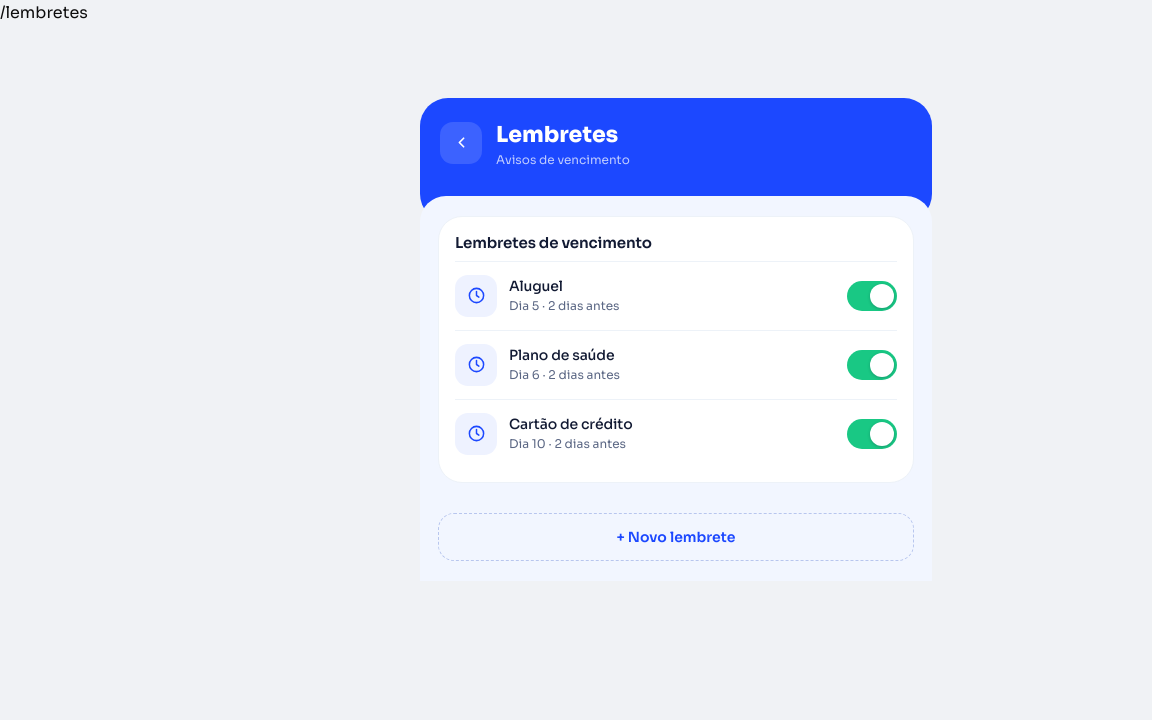
Test: Lembretes › Esc fecha a janela de novo lembrete e a de antecedência, sem criar nem mudar nada
Click the button "+ Novo lembrete". click: (676, 537)
box: x1=438 y1=513 x2=914 y2=561
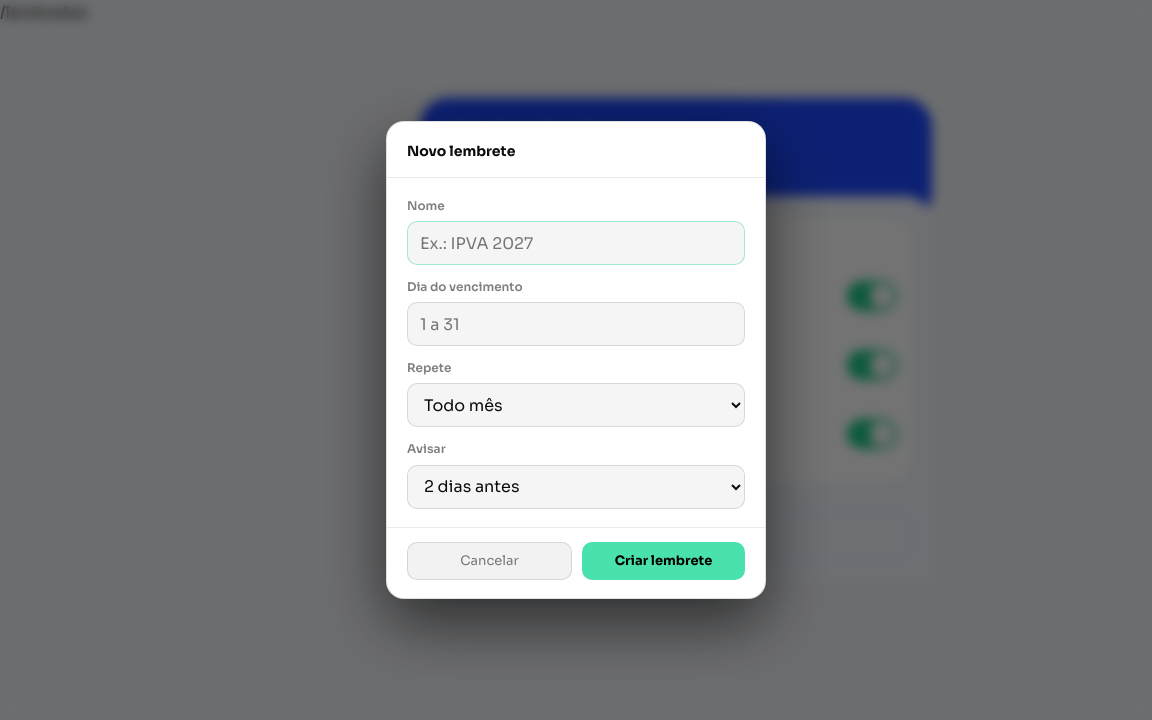
Expected: the dialog "Novo lembrete" is shown, x1=386 y1=121 x2=766 y2=598
Press Escape
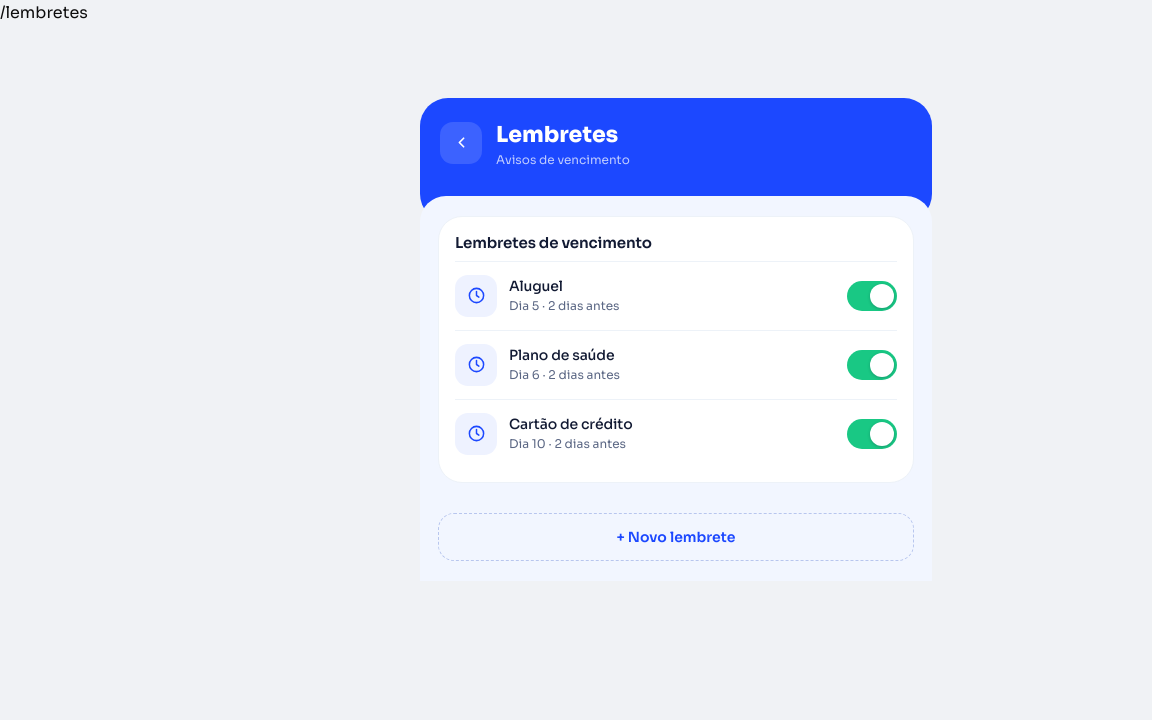
Expected: the dialog is gone
Click the button with aria-label "Antecedência do lembrete de Aluguel". click: (476, 296)
box: x1=455 y1=262 x2=837 y2=330
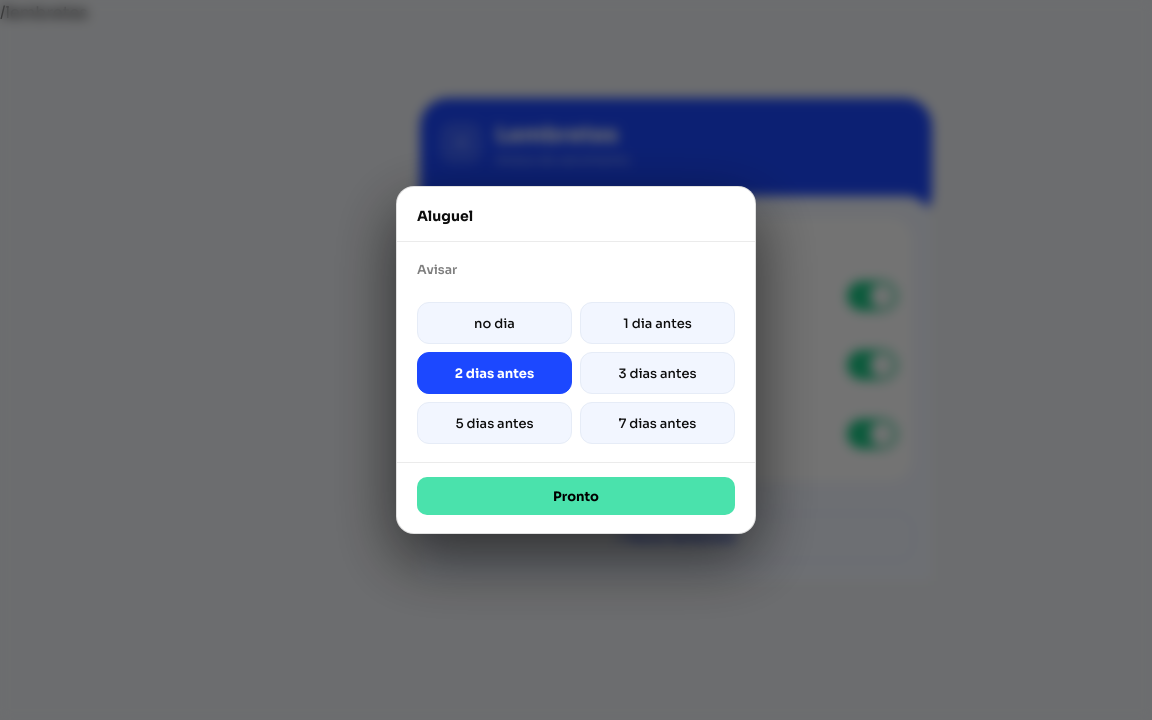
Expected: the dialog named "Lembrete de Aluguel" is shown, x1=396 y1=186 x2=756 y2=534
Press Escape
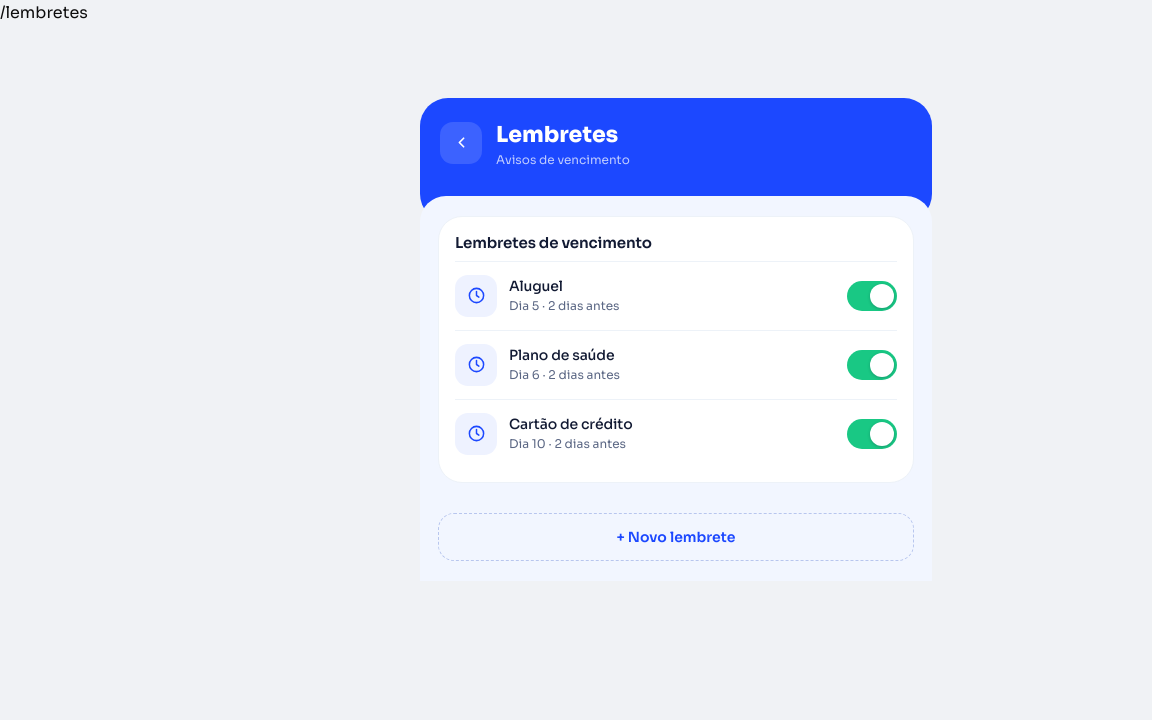
Expected: the dialog is gone
